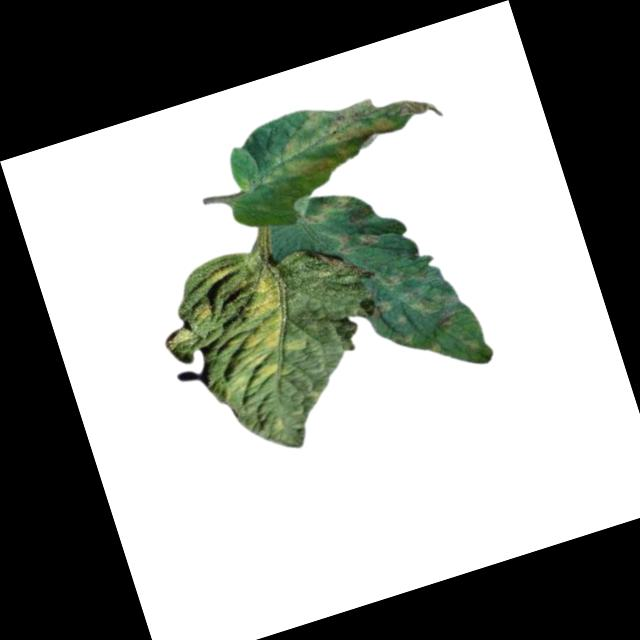Leaf_Mold: (272, 73, 449, 185), (210, 263, 314, 392), (397, 272, 460, 325), (298, 188, 358, 231), (334, 224, 386, 259), (370, 262, 408, 295), (200, 259, 241, 288), (388, 328, 416, 356), (189, 301, 216, 329), (370, 296, 397, 321)
